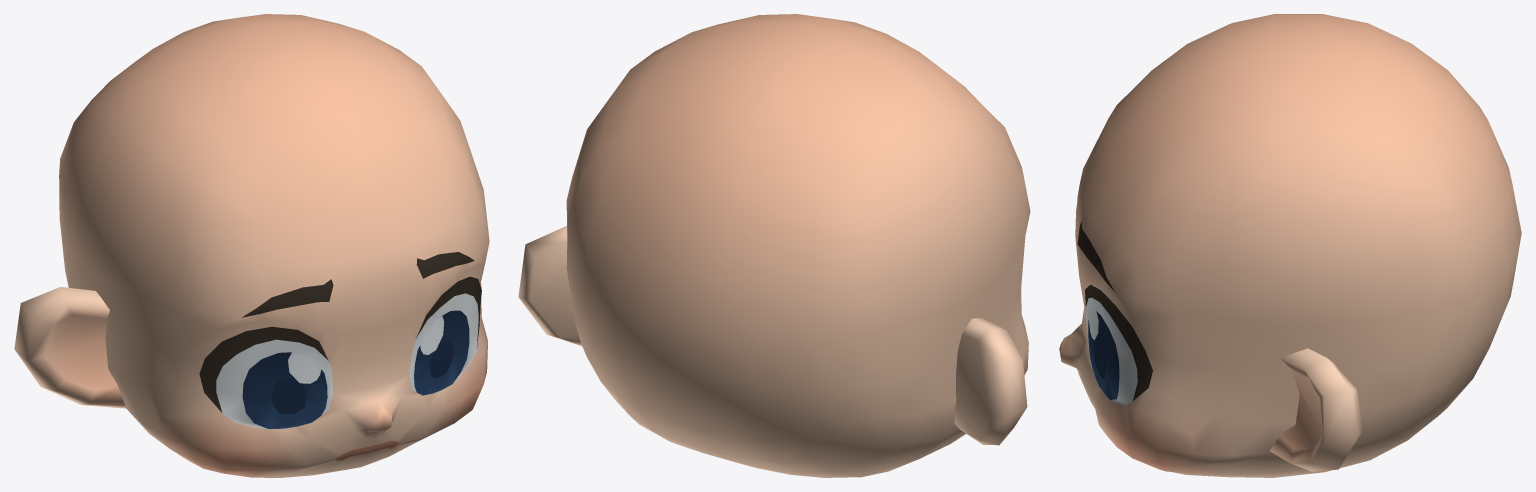
Rendered from sad.fbx.
The picture shows the model from 3 angles, left to right: view 1: azimuth 30°, elevation 25°; view 2: azimuth 150°, elevation 25°; view 3: azimuth 270°, elevation 25°; orthographic projection. The views are drawn at different scales.
Parts seen in each view (by area): view 1: Sad; view 2: Sad; view 3: Sad.
Part boxes in pixels (x1,y1,x2,y2): Sad: (14, 14, 489, 477); Sad: (518, 14, 1030, 477); Sad: (1059, 14, 1521, 477).
Size of the model in its own units: 81.66 by 66.4 by 68.58.
